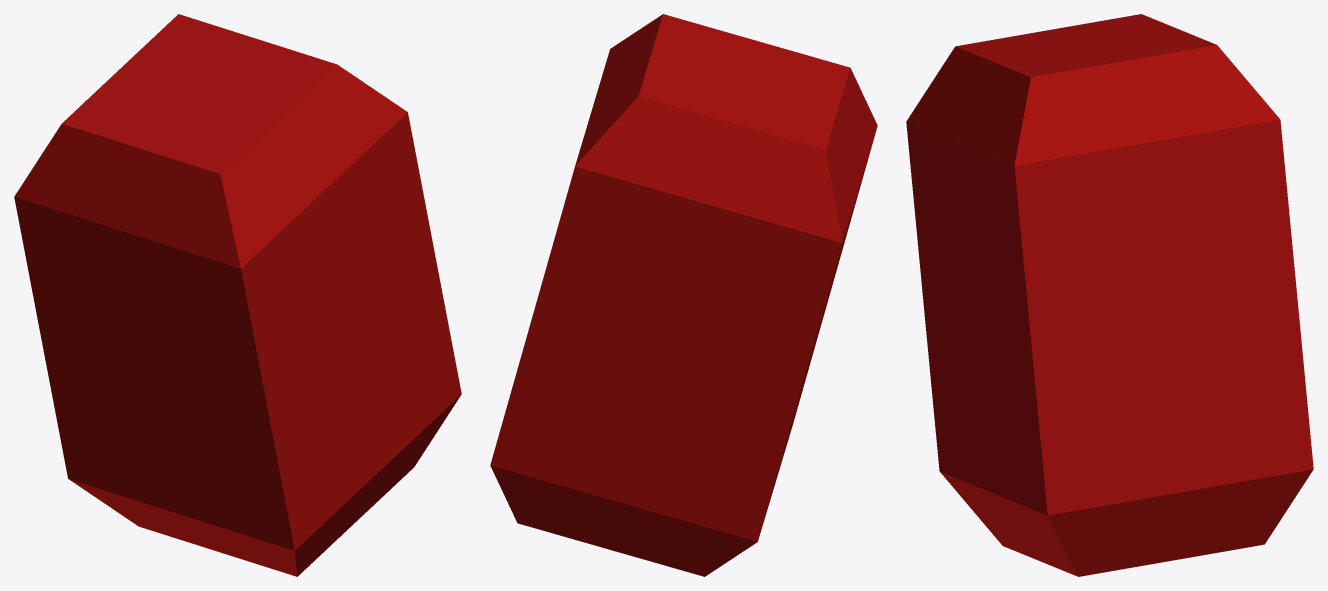
File: town_jewel0011.obj
3 views of the same model, side by side, from view 1: azimuth 30°, elevation 25°; view 2: azimuth 150°, elevation 25°; view 3: azimuth 270°, elevation 25° (orthographic). The views are drawn at different scales.
Visible parts, largest first — view 1: RedJewel; view 2: RedJewel; view 3: RedJewel.
Boxes of the visible parts, x1,y1,x2,y2 form: RedJewel: (14, 14, 461, 576); RedJewel: (490, 14, 877, 576); RedJewel: (906, 14, 1313, 576).
Bounding box in the file's own units: 1 × 1.21 × 0.9042.
